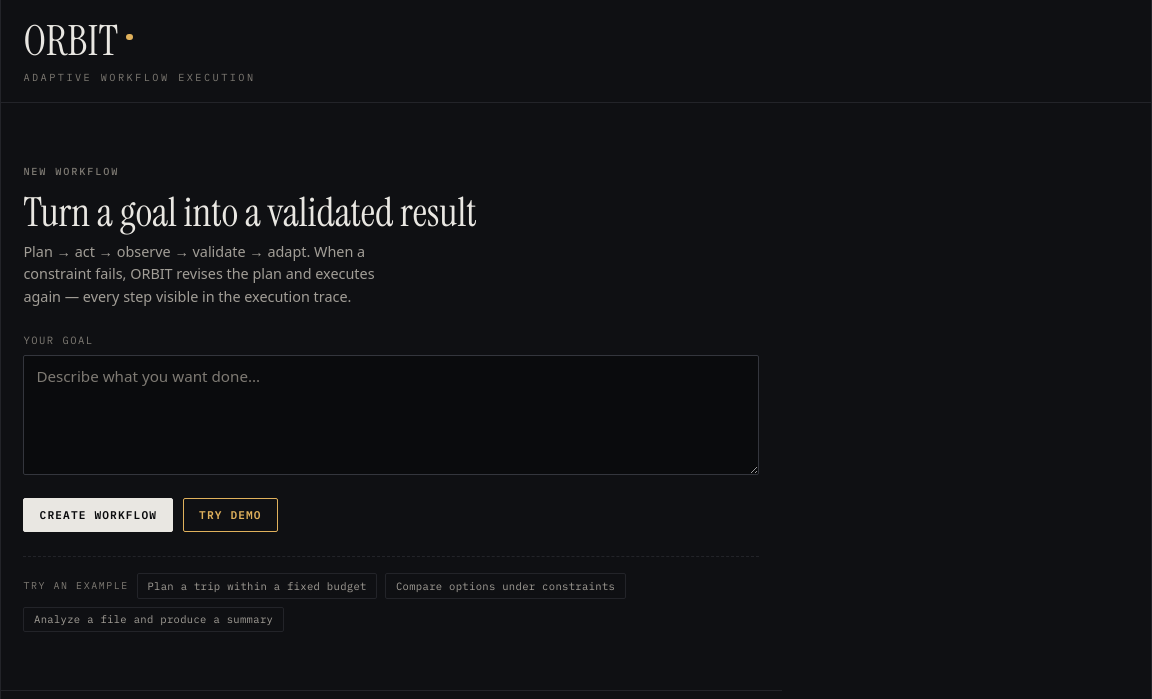
Scenario: edge cases › 5. network failure shows a network error and a retry succeeds
The width and height of the screenshot is (1152, 699).
Type "Find options" into the text box named "goal-input" at (391, 415), box left=23, top=355, right=759, bottom=475
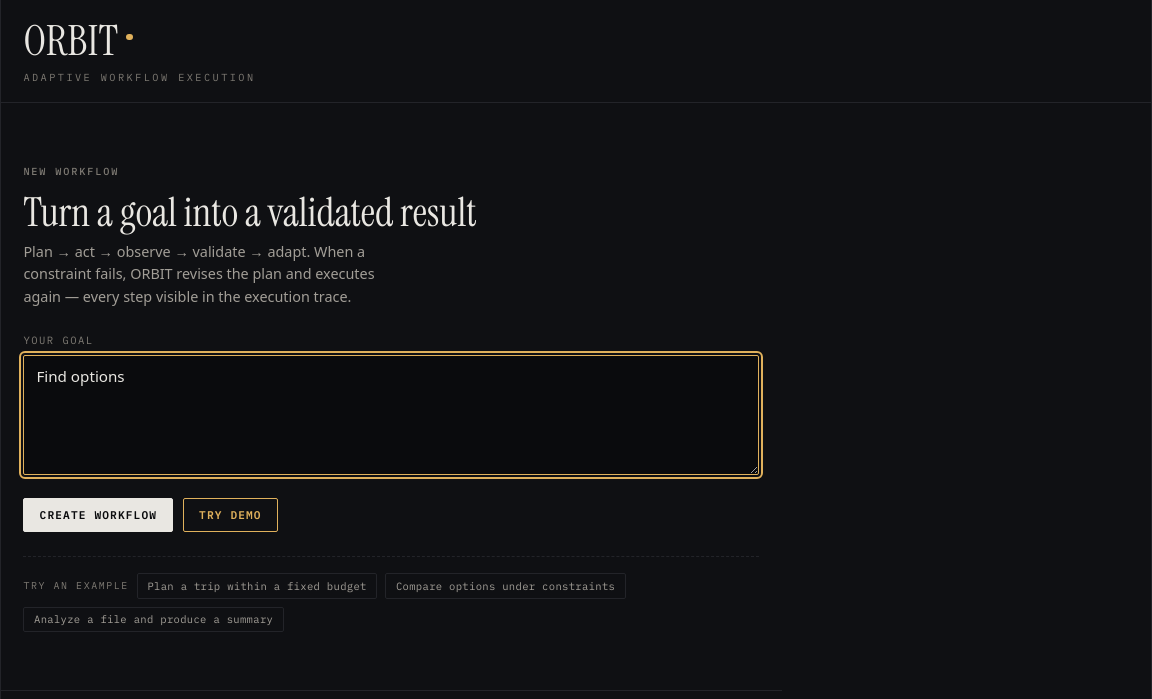
Click the button "Create workflow" at (98, 515), box left=23, top=498, right=173, bottom=532
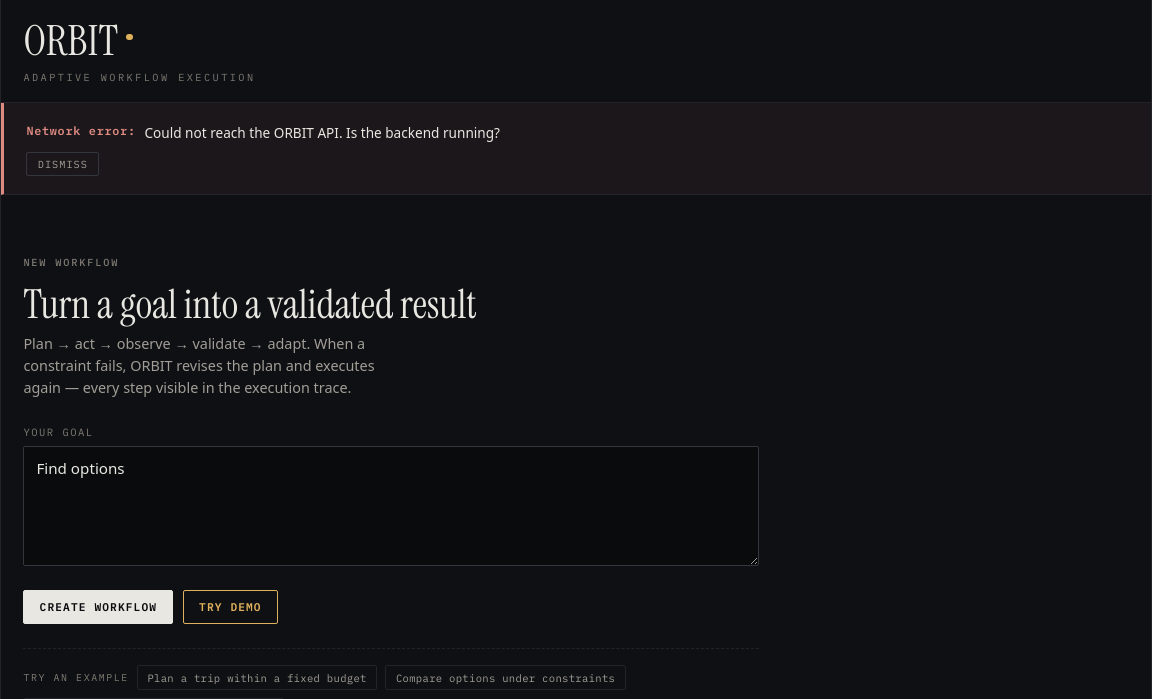
Expected: the message with test id "error-banner" shows "Network error", left=26, top=123, right=128, bottom=138
Click the button "Create workflow" at (98, 607), box left=23, top=590, right=173, bottom=624
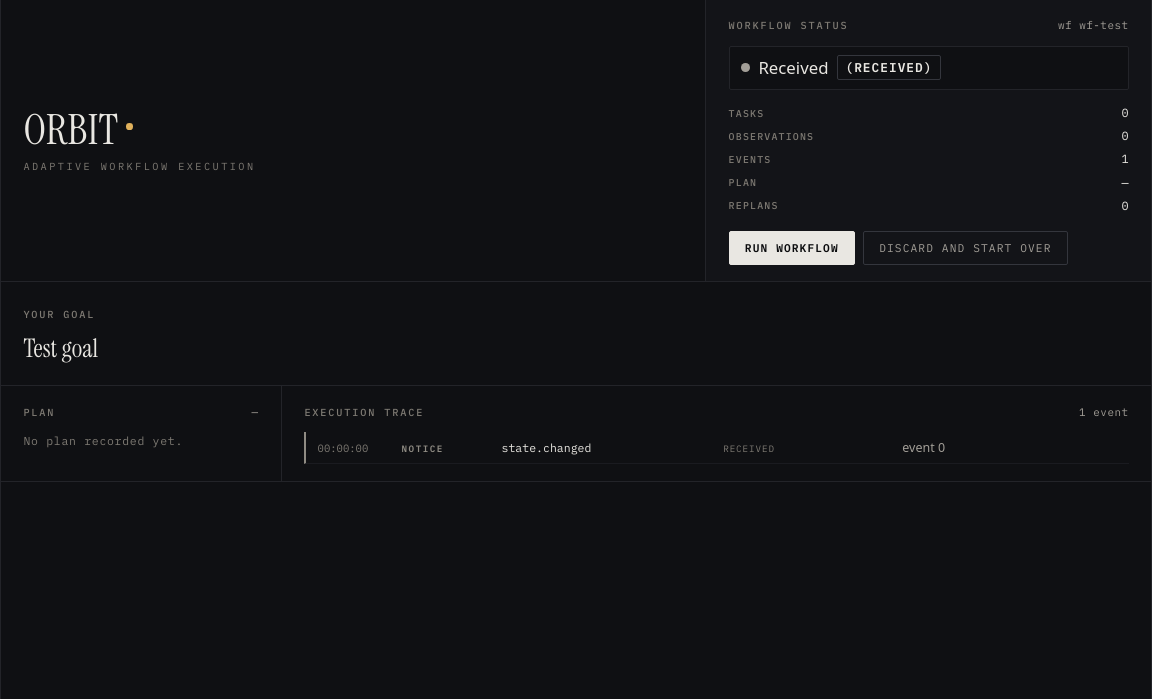
Expected: the element with test id "status-panel" is shown, left=705, top=0, right=1151, bottom=281
Expected: the message with test id "error-banner" is gone
